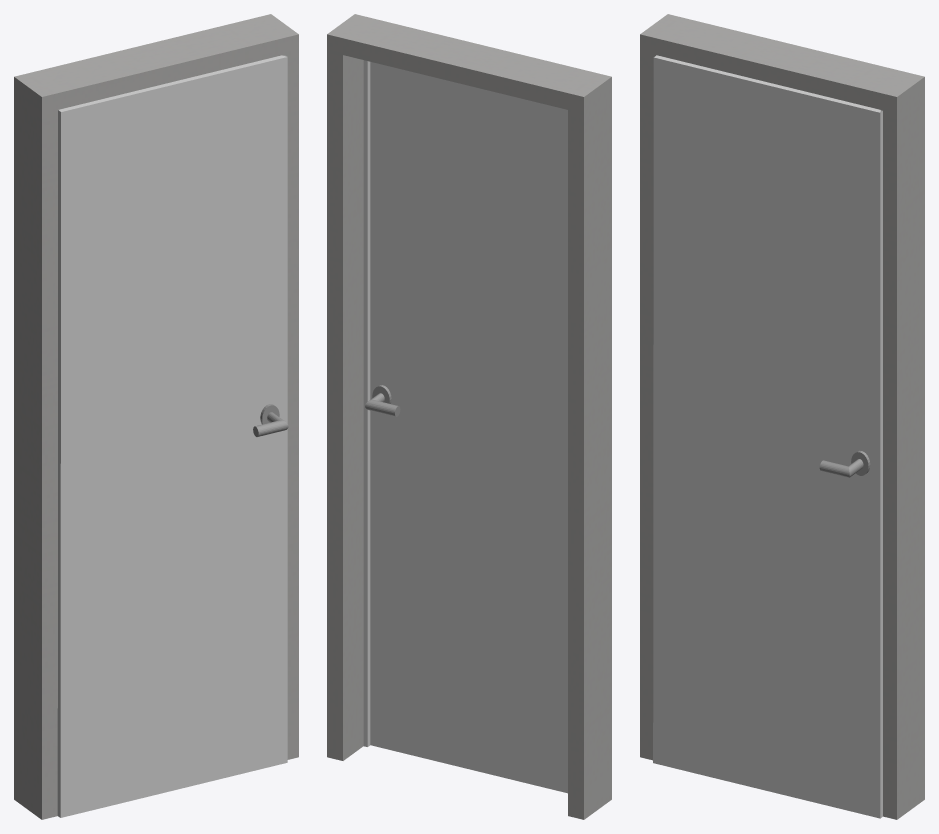
The model's file is door_70_metal_close.dae.
3 renders of one model, left to right at view 1: azimuth 30°, elevation 25°; view 2: azimuth 150°, elevation 25°; view 3: azimuth 330°, elevation 25°, orthographic.
Visible parts, largest first — view 1: dvere_90, futra_70; view 2: dvere_90, futra_70; view 3: dvere_90, futra_70.
Part boxes in pixels (x1=…): dvere_90: x1=57, y1=55, x2=288, y2=817; futra_70: x1=14, y1=14, x2=298, y2=819; dvere_90: x1=363, y1=60, x2=567, y2=793; futra_70: x1=327, y1=14, x2=611, y2=819; dvere_90: x1=653, y1=55, x2=882, y2=818; futra_70: x1=640, y1=14, x2=924, y2=819.
Size of the model in its own units: 0.8 by 0.25 by 2.15.
3 materials, 1 textured.
